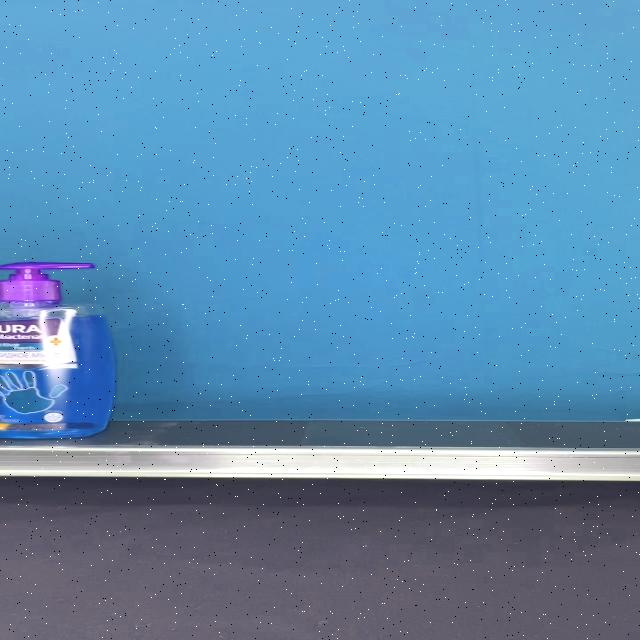Bottle: (0, 262, 116, 438)
Cap: (0, 262, 94, 302)
